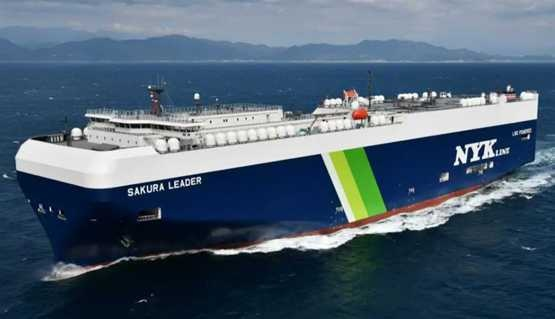Cargoship: (14, 66, 540, 280)
